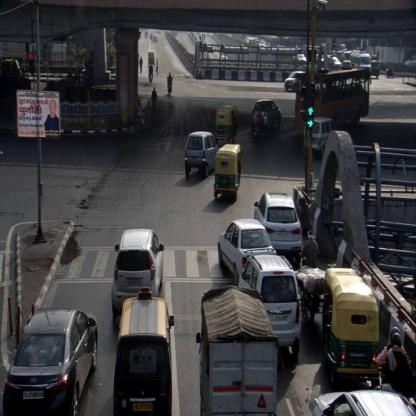bus: (296, 66, 369, 136), (350, 51, 374, 75)
car: (4, 309, 99, 415), (113, 290, 176, 415), (239, 257, 302, 359), (110, 229, 166, 315), (217, 218, 277, 284), (254, 191, 304, 266), (185, 132, 219, 177), (305, 116, 333, 159), (252, 98, 283, 132)
motorcycle: (301, 228, 323, 323), (252, 111, 266, 140), (166, 72, 174, 97)
truck: (196, 286, 275, 415)
